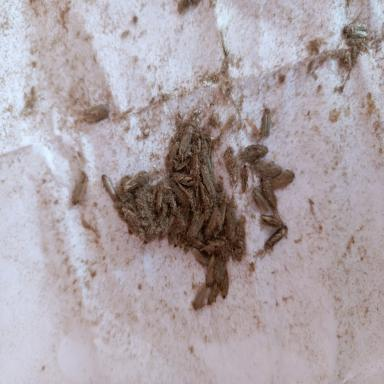pbw: (69, 170, 87, 207), (186, 209, 209, 235), (200, 162, 218, 194), (259, 179, 278, 209), (265, 225, 287, 250), (99, 174, 118, 202), (270, 170, 296, 190), (170, 198, 186, 230), (178, 178, 195, 206), (82, 105, 108, 123), (241, 142, 266, 160), (179, 126, 194, 156), (232, 213, 246, 244), (251, 161, 281, 175), (121, 207, 140, 229), (164, 188, 188, 205), (251, 189, 268, 213), (207, 278, 221, 307), (127, 171, 148, 190), (211, 255, 228, 278), (191, 283, 206, 309), (145, 218, 161, 241), (342, 20, 368, 34), (197, 181, 210, 208), (206, 254, 216, 287), (187, 246, 205, 264), (171, 170, 191, 186), (230, 241, 245, 262), (226, 204, 235, 238), (204, 208, 215, 234), (260, 215, 282, 228), (160, 214, 174, 234), (261, 108, 271, 136), (219, 273, 230, 298), (215, 201, 224, 230), (202, 240, 225, 251), (191, 153, 199, 179), (154, 187, 162, 211), (175, 158, 190, 170), (172, 224, 180, 246), (242, 164, 248, 192), (345, 31, 368, 38), (195, 136, 202, 154), (207, 157, 211, 174)
